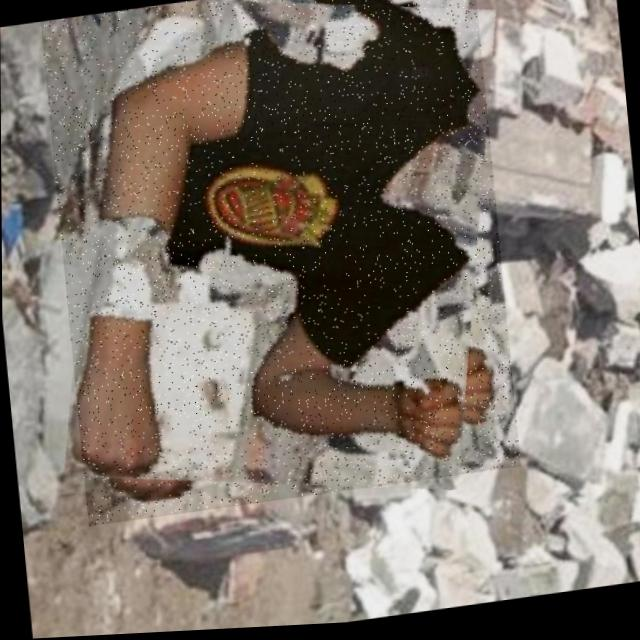Person in Rubble: (39, 0, 519, 528)
